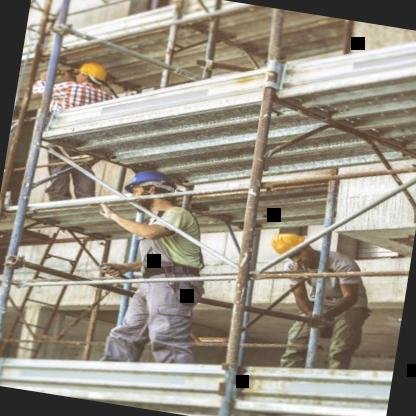helmet: (114, 161, 184, 213), (266, 228, 320, 268), (70, 55, 110, 90)
